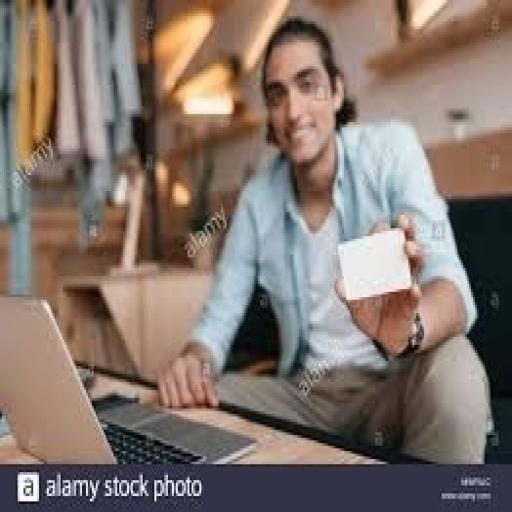using_laptop: (0, 289, 258, 467)
